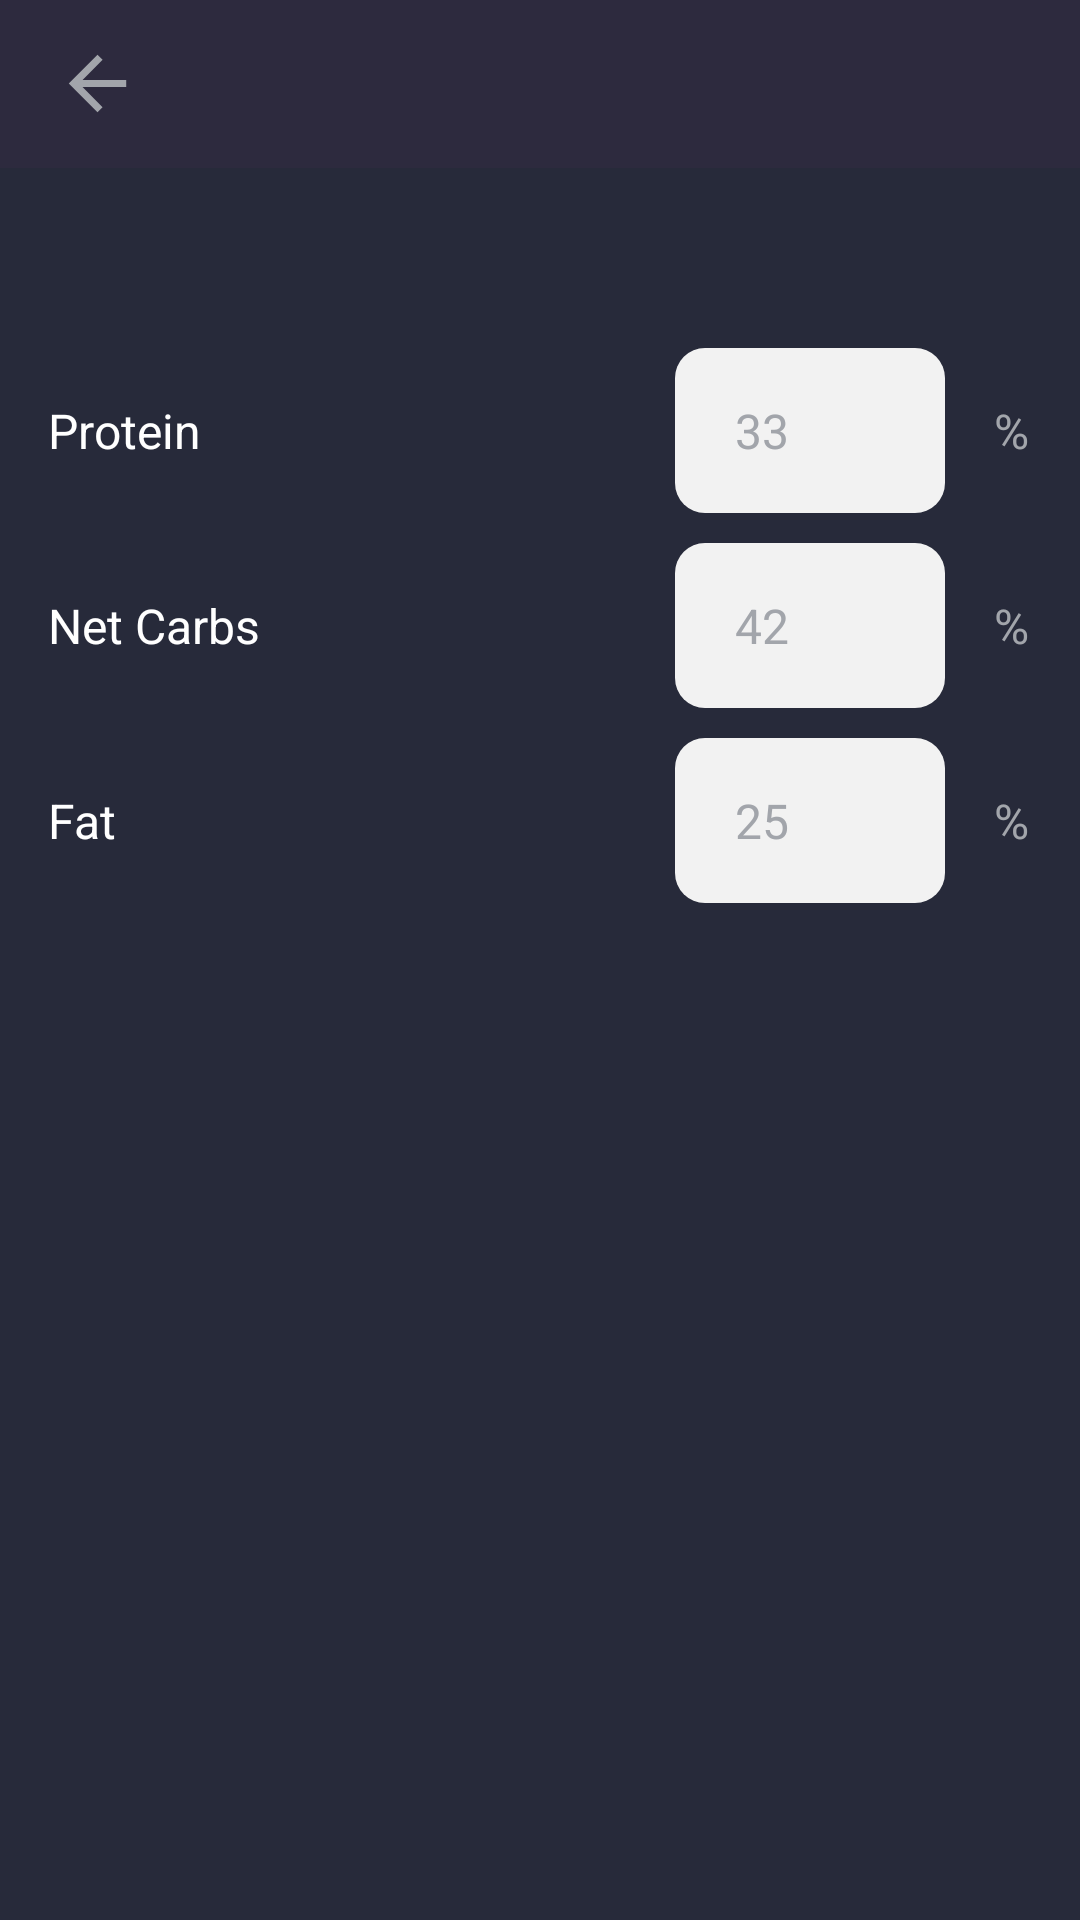

Screen size 1080px×1920px. Icon name, then its center in pixels as [x,y]:
left arrow: [98,83]
